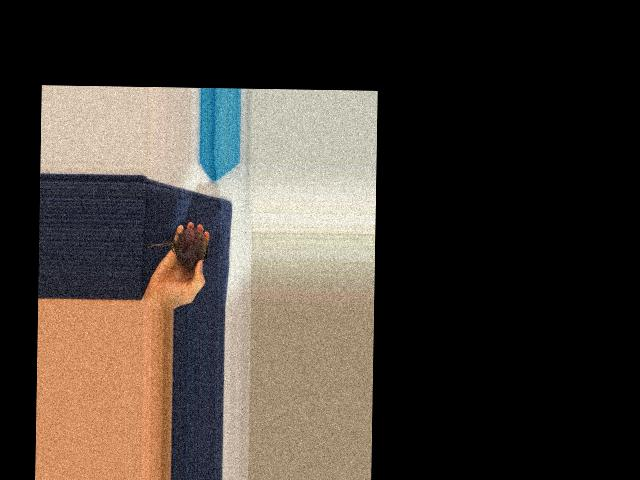beet: (146, 226, 211, 268)
